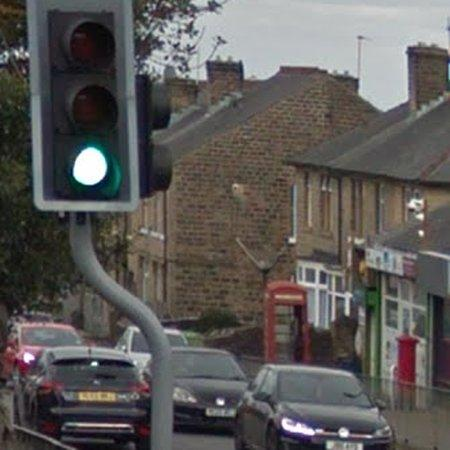chimneys: (408, 43, 448, 111), (207, 60, 244, 104), (165, 77, 199, 112)
